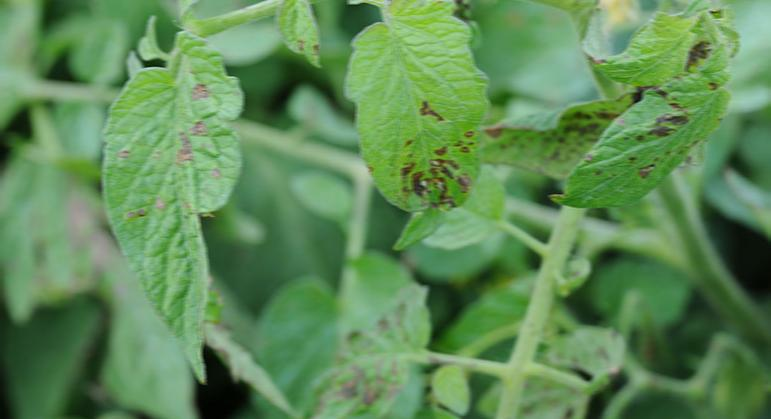Tomato leaf bacterial spot: (97, 46, 251, 402), (341, 0, 480, 252), (583, 32, 748, 233)
